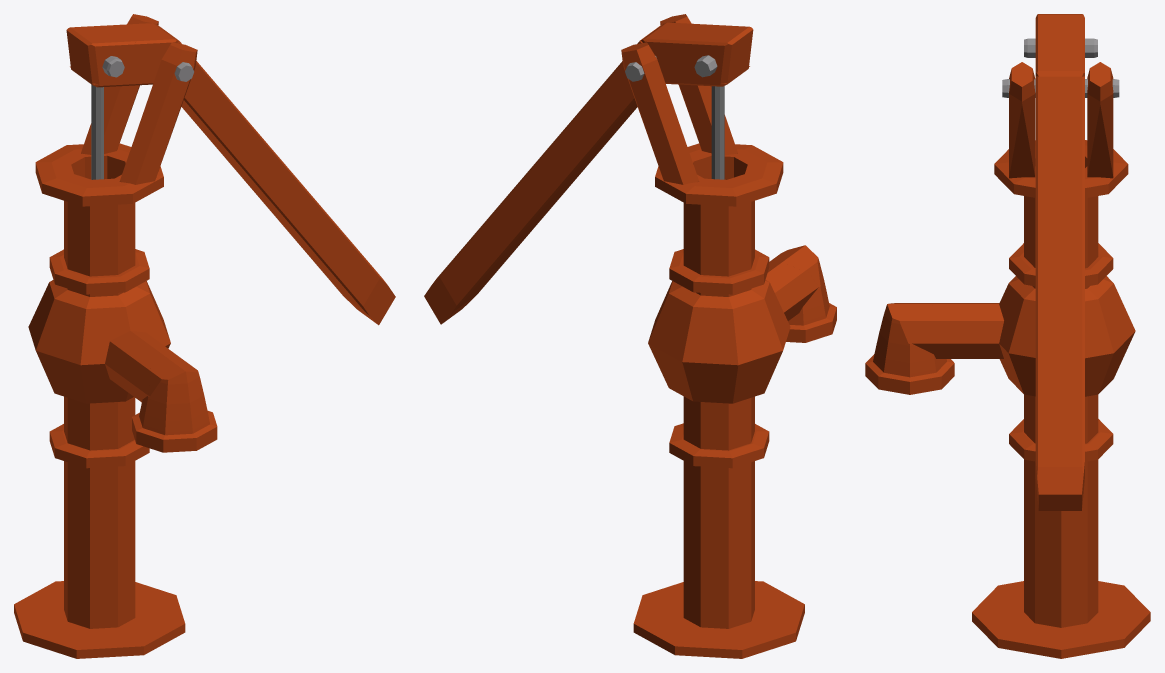
Rendered from WaterPump.fbx.
The picture shows the model from 3 angles, left to right: view 1: azimuth 30°, elevation 25°; view 2: azimuth 150°, elevation 25°; view 3: azimuth 270°, elevation 25°; orthographic projection.
Parts seen in each view (by area): view 1: node_id59, node_id65, node_id76; view 2: node_id59, node_id65, node_id76; view 3: node_id59, node_id65, node_id73.
Part boxes in pixels (x1,y1,x2,y2): node_id59: (14, 14, 217, 658); node_id65: (66, 23, 395, 325); node_id76: (91, 84, 103, 179); node_id59: (621, 14, 836, 658); node_id65: (424, 22, 753, 324); node_id76: (711, 86, 724, 179); node_id59: (865, 62, 1150, 658); node_id65: (1035, 14, 1084, 510); node_id73: (1024, 38, 1097, 57).
Bounding box in the file's own units: 0.3344 × 0.5232 × 0.2264.
6 materials, 5 textured.
